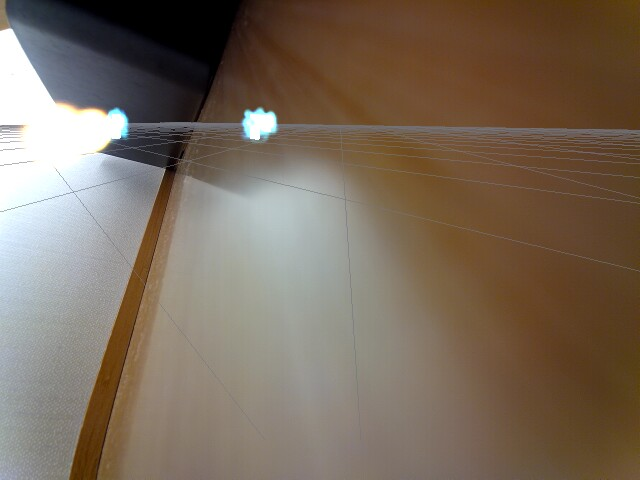fire: (21, 104, 112, 157)
